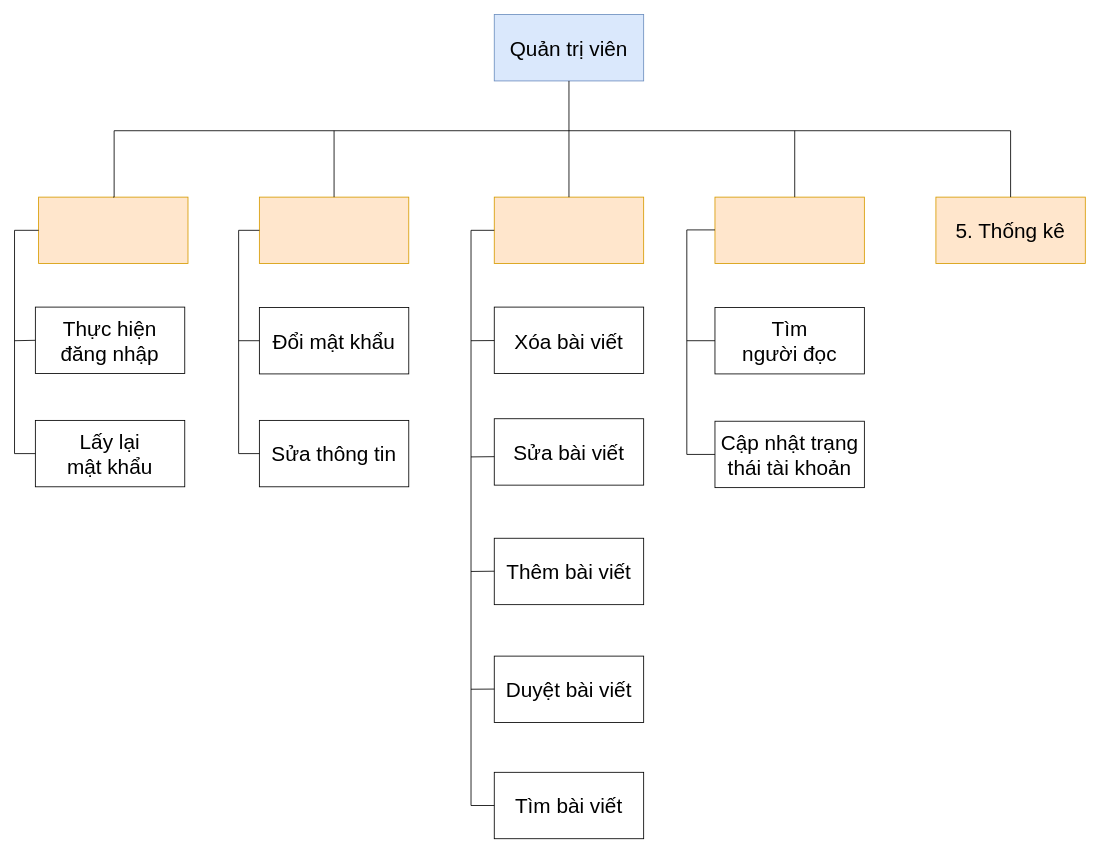
Some shapes in this 1101 by 853 pixel diagram are drawn without their labels. Each missing label, with the centre of its shape:
1. Đăng nhập: point (113, 230)
2. Quản lý tài khoản: point (334, 230)
3. Quản lý bài viết: point (568, 230)
4. Quản lý người đọc: point (789, 230)
